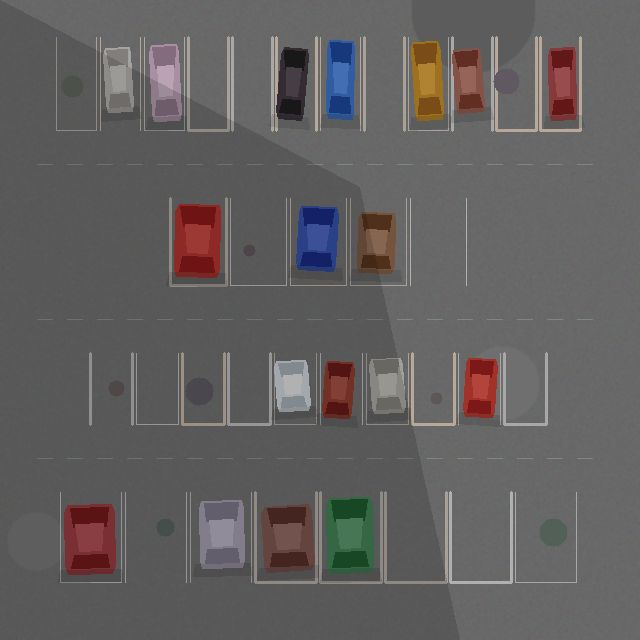space-empty: (125, 492, 186, 582), (385, 492, 446, 582), (450, 492, 511, 582), (515, 492, 576, 582), (230, 198, 286, 285), (410, 198, 466, 285), (56, 37, 96, 130), (188, 37, 228, 130), (232, 37, 272, 130), (364, 37, 404, 130), (496, 37, 536, 130), (90, 353, 132, 424), (136, 353, 178, 424), (182, 353, 224, 424), (228, 353, 270, 424), (412, 353, 454, 424), (504, 353, 546, 424)
space-occupied: (60, 492, 121, 582), (190, 492, 251, 582), (255, 492, 316, 582), (320, 492, 381, 582), (170, 198, 226, 285), (290, 198, 346, 285), (350, 198, 406, 285), (100, 37, 140, 130), (144, 37, 184, 130), (276, 37, 316, 130), (320, 37, 360, 130), (408, 37, 448, 130), (452, 37, 492, 130), (540, 37, 580, 130), (274, 353, 316, 424), (320, 353, 362, 424), (366, 353, 408, 424), (458, 353, 500, 424)
